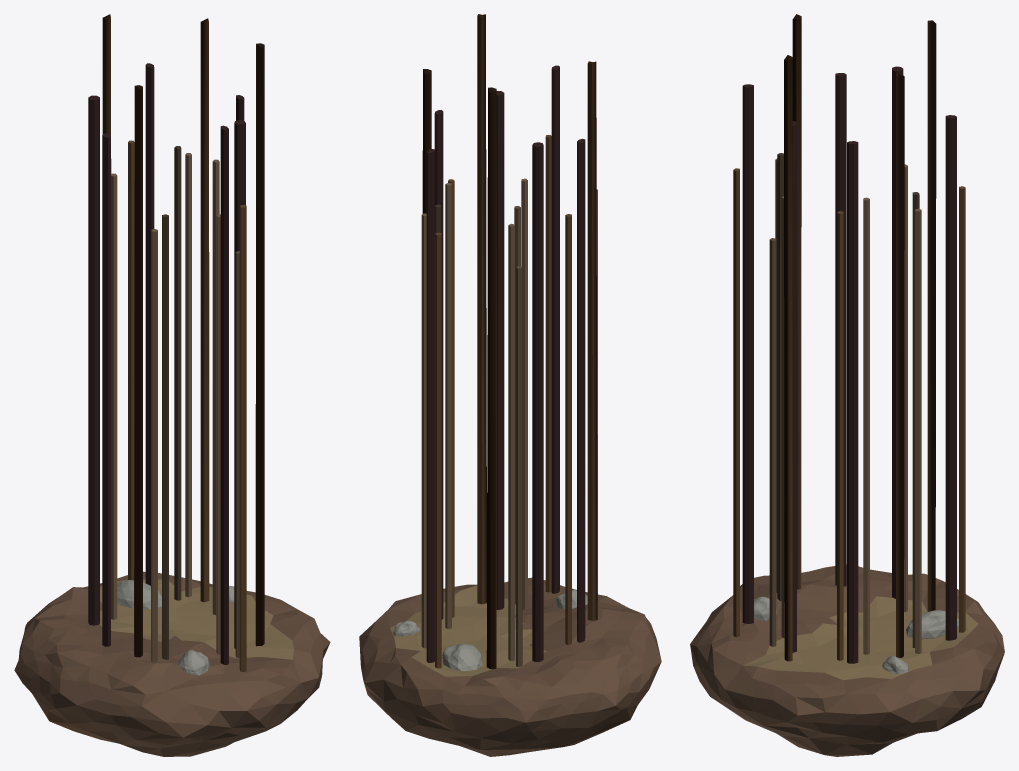
File: background1.gltf
3 views of the same model, side by side, from view 1: azimuth 30°, elevation 25°; view 2: azimuth 150°, elevation 25°; view 3: azimuth 270°, elevation 25° (orthographic). The views are drawn at different scales.
Visible parts, largest first — view 1: Icosphere, Cylinder.003, Cylinder.016, Cylinder.001, Icosphere.001, Cylinder.020, Cylinder.014, Cylinder.010, Cylinder.007, Cylinder.013, Cylinder, Cylinder.006 (+11 smaller); view 2: Icosphere, Cylinder.003, Cylinder.020, Cylinder.016, Cylinder.005, Icosphere.001, Cylinder.014, Cylinder.018, Cylinder.007, Cylinder.010, Cylinder.013, Cylinder.022 (+11 smaller); view 3: Icosphere, Icosphere.001, Cylinder.014, Cylinder.007, Cylinder.011, Cylinder.005, Cylinder.016, Cylinder.001, Cylinder.010, Cylinder.020, Cylinder.013, Cylinder.019 (+12 smaller).
Boxes of the visible parts, x1=… form: Icosphere: x1=14, y1=571, x2=330, y2=756; Cylinder.003: x1=88, y1=95, x2=99, y2=625; Cylinder.016: x1=255, y1=43, x2=264, y2=646; Cylinder.001: x1=200, y1=18, x2=209, y2=602; Icosphere.001: x1=99, y1=579, x2=293, y2=659; Cylinder.020: x1=134, y1=85, x2=142, y2=657; Cylinder.014: x1=220, y1=125, x2=228, y2=664; Cylinder.010: x1=102, y1=133, x2=110, y2=646; Cylinder.007: x1=145, y1=63, x2=154, y2=585; Cylinder.013: x1=239, y1=204, x2=246, y2=671; Cylinder: x1=174, y1=146, x2=181, y2=600; Cylinder.006: x1=111, y1=173, x2=117, y2=619; Icosphere: x1=359, y1=577, x2=661, y2=756; Cylinder.003: x1=532, y1=142, x2=543, y2=661; Cylinder.020: x1=587, y1=61, x2=597, y2=620; Cylinder.016: x1=477, y1=14, x2=486, y2=604; Cylinder.005: x1=486, y1=87, x2=496, y2=669; Icosphere.001: x1=390, y1=585, x2=546, y2=676; Cylinder.014: x1=551, y1=65, x2=559, y2=593; Cylinder.018: x1=496, y1=91, x2=504, y2=609; Cylinder.007: x1=426, y1=149, x2=434, y2=662; Cylinder.010: x1=577, y1=138, x2=585, y2=642; Cylinder.013: x1=545, y1=135, x2=551, y2=592; Cylinder.022: x1=445, y1=183, x2=451, y2=628; Icosphere: x1=690, y1=564, x2=1004, y2=756; Icosphere.001: x1=743, y1=596, x2=978, y2=680; Cylinder.014: x1=742, y1=84, x2=753, y2=623; Cylinder.007: x1=945, y1=115, x2=956, y2=640; Cylinder.011: x1=847, y1=141, x2=858, y2=663; Cylinder.005: x1=927, y1=20, x2=936, y2=611; Cylinder.016: x1=784, y1=55, x2=792, y2=661; Cylinder.001: x1=896, y1=73, x2=904, y2=657; Cylinder.010: x1=835, y1=73, x2=846, y2=586; Cylinder.020: x1=792, y1=14, x2=801, y2=589; Cylinder.013: x1=733, y1=168, x2=739, y2=637; Cylinder.019: x1=769, y1=238, x2=776, y2=646.
Size of the model in its own units: 84.99 by 216 by 86.76.
